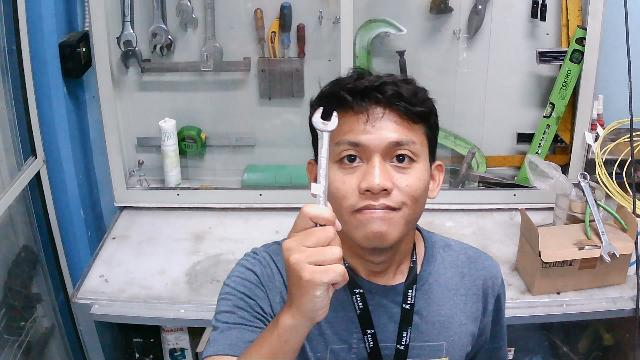kunci_pass_13: (279, 102, 353, 266)
